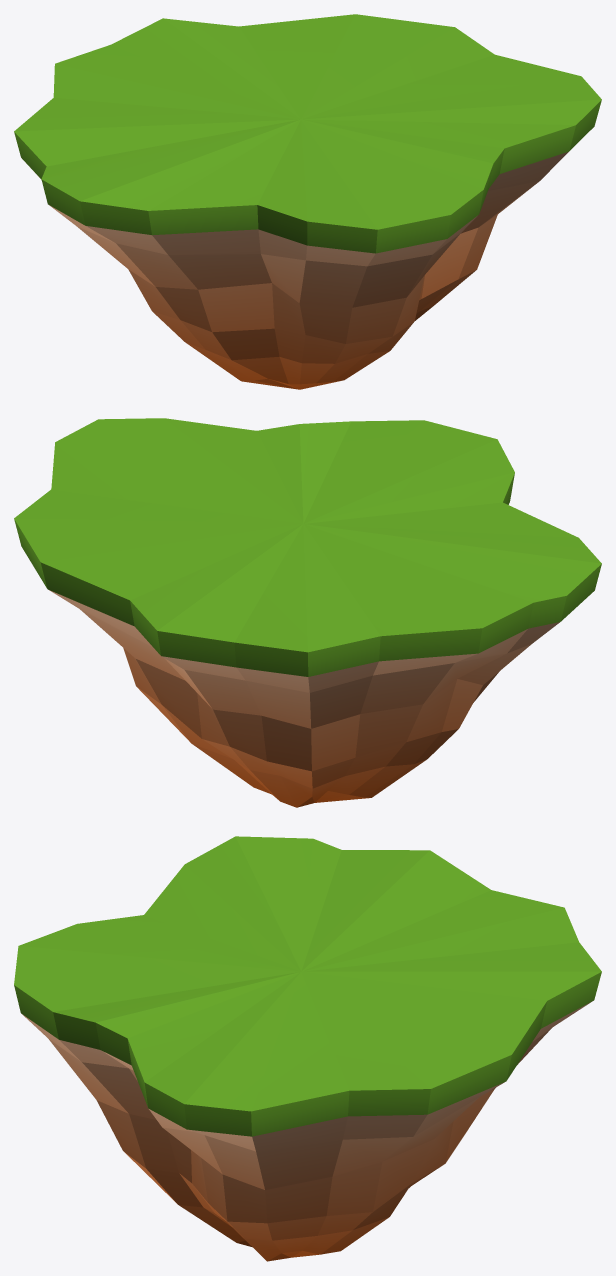
File: island.glb
The picture shows the model from 3 angles, top to bottom: view 1: azimuth 30°, elevation 25°; view 2: azimuth 150°, elevation 25°; view 3: azimuth 270°, elevation 25°; orthographic projection. The views are drawn at different scales.
Parts seen in each view (by area): view 1: Grass, Base; view 2: Grass, Base; view 3: Grass, Base.
Boxes of the visible parts, <box> form: Grass: <box>14,14,601,253</box>; Base: <box>30,151,568,389</box>; Grass: <box>14,418,601,676</box>; Base: <box>49,590,559,807</box>; Grass: <box>14,836,601,1136</box>; Base: <box>22,1001,592,1261</box>.
Bounding box in the file's own units: 5.5 × 2.74 × 5.03.
Materials: 2 (2 with a texture image).
